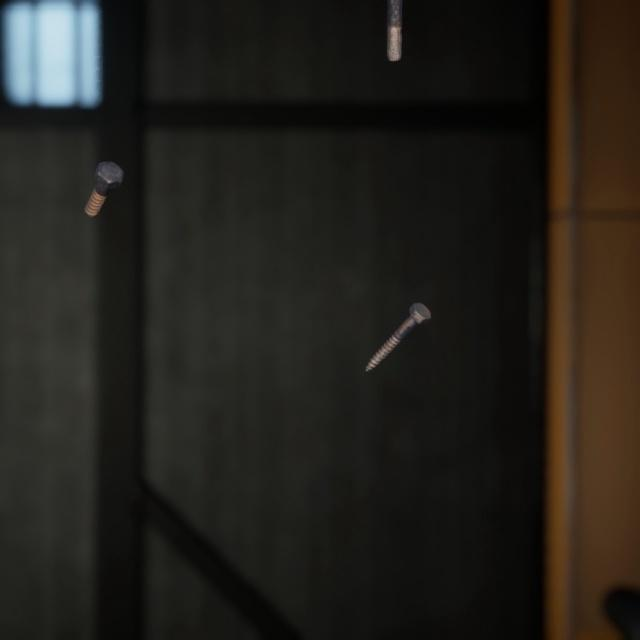bolt: (361, 280, 435, 358), (79, 142, 128, 207)
